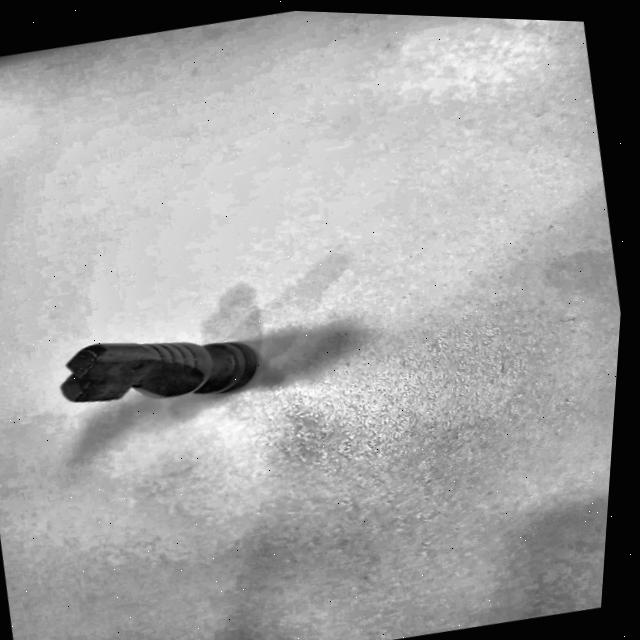black-knight: (39, 302, 285, 432)
